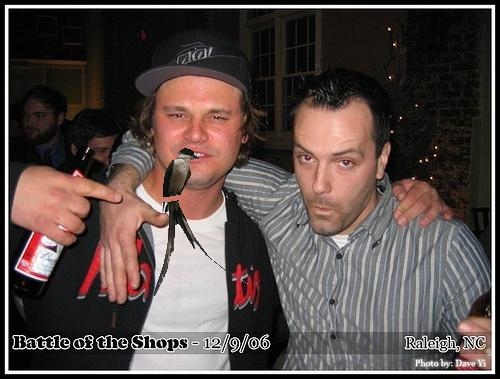tampered: (155, 49, 252, 296)
